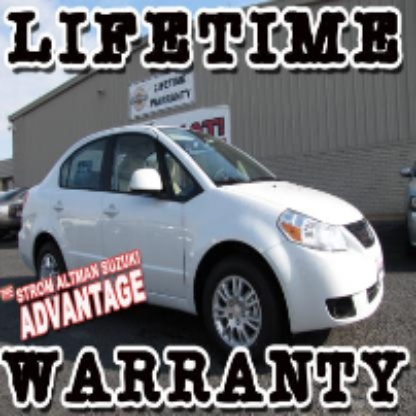Vehicle: (17, 122, 386, 356)
